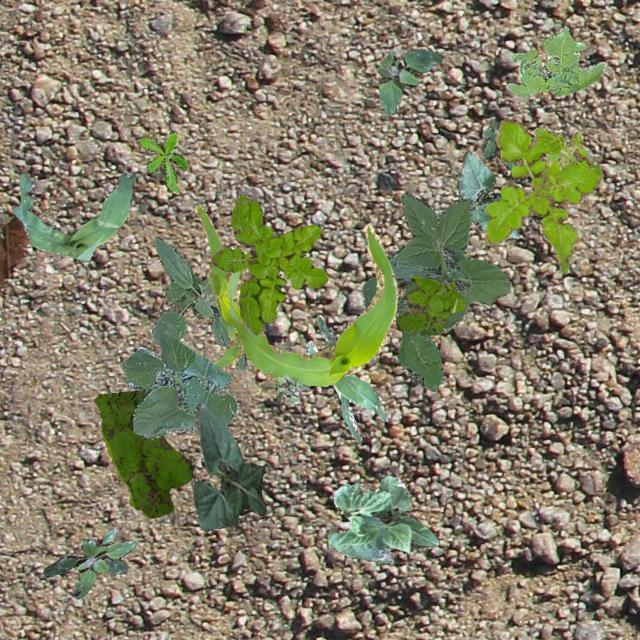crop: (194, 204, 396, 384), (121, 331, 236, 438), (10, 170, 134, 260), (304, 314, 388, 442), (327, 476, 438, 562), (190, 402, 264, 530), (458, 150, 518, 238)
weed: (362, 192, 511, 390), (484, 118, 600, 272), (210, 194, 326, 334), (92, 388, 192, 516), (150, 236, 246, 368), (504, 24, 604, 96), (42, 526, 136, 598), (376, 48, 442, 114), (394, 274, 464, 334), (532, 126, 602, 178), (138, 130, 188, 190), (482, 118, 516, 168), (272, 373, 308, 402)
